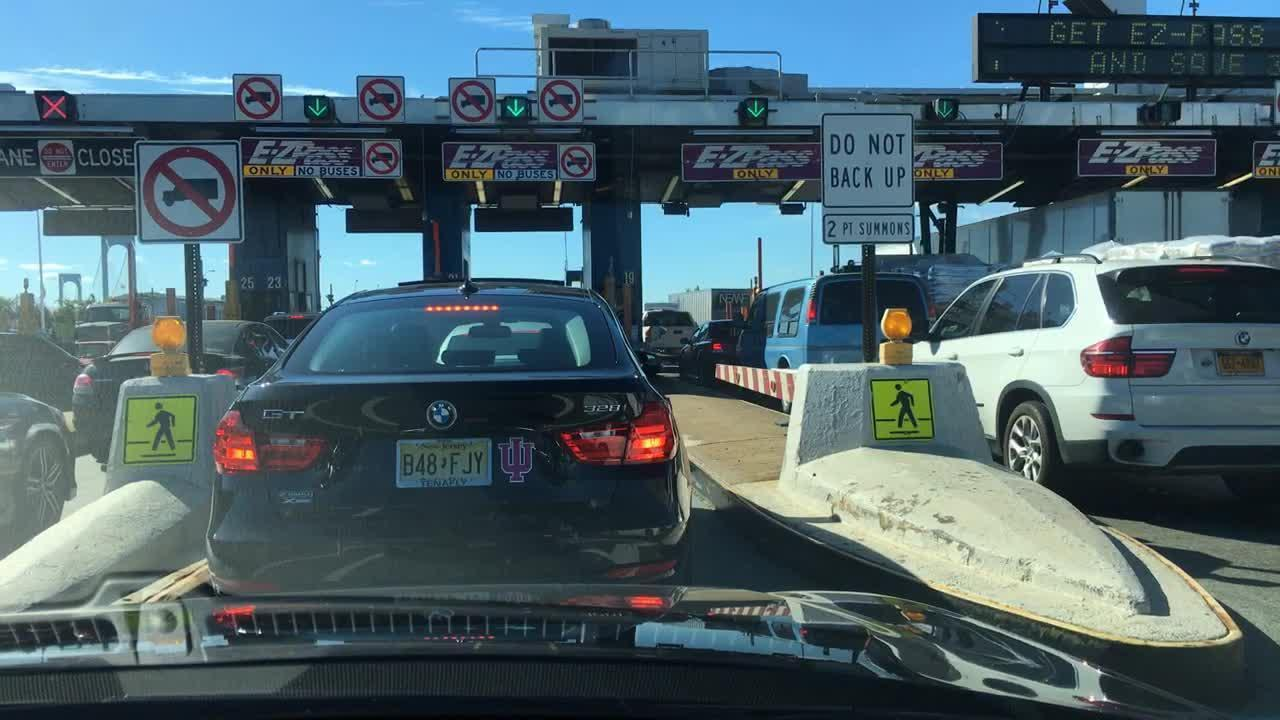bmw: (411, 391, 469, 437)
